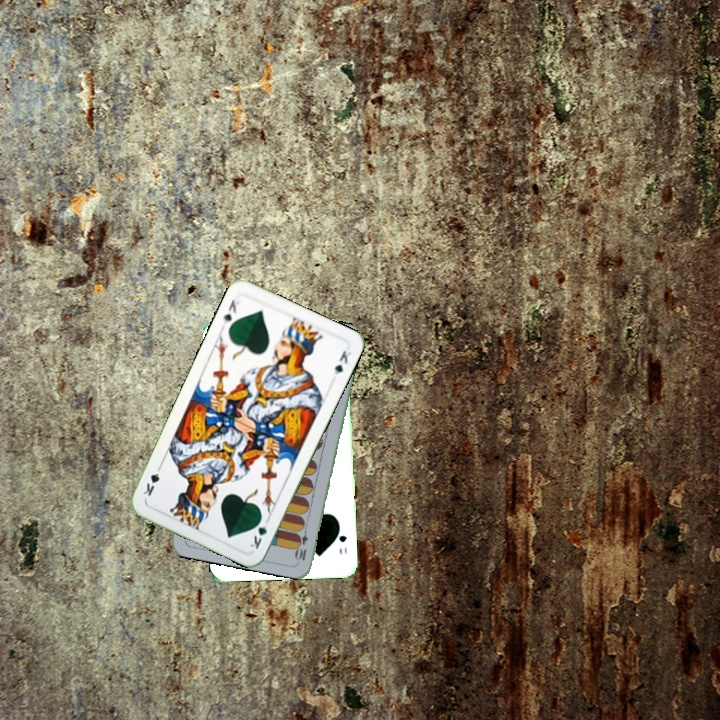E10: (293, 522, 310, 563)
GK: (246, 512, 272, 552), (219, 296, 242, 328)
GO: (332, 521, 349, 557)
